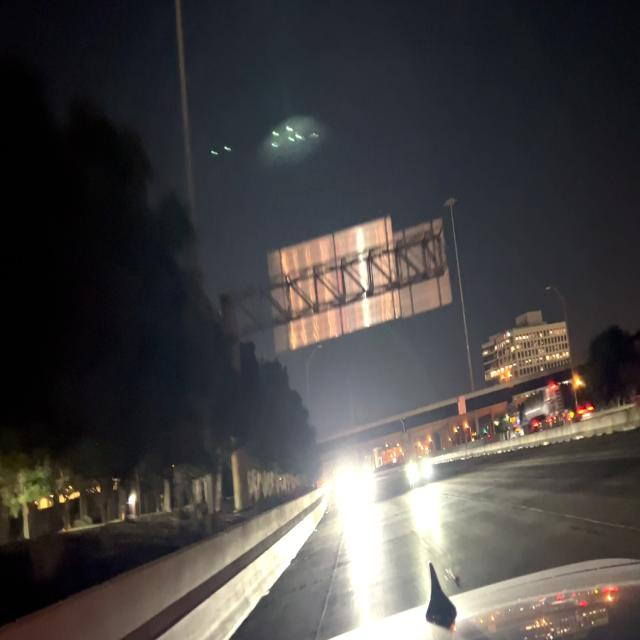back-of-sign: (269, 212, 455, 353)
